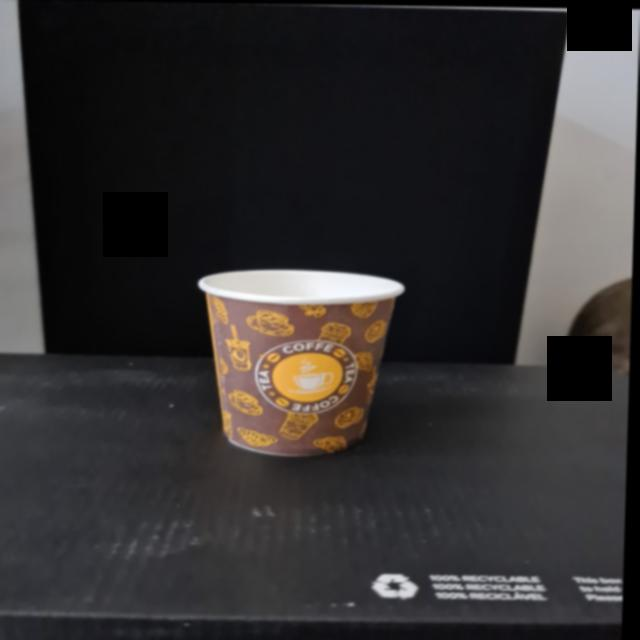cups: (153, 248, 442, 483)
